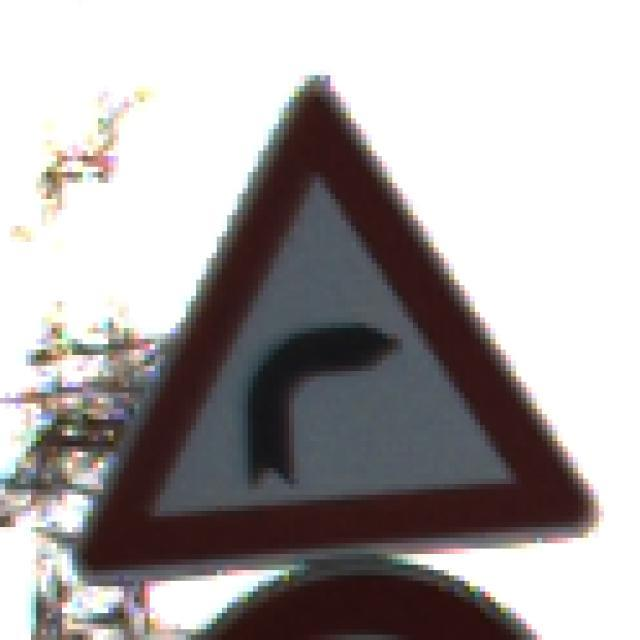right hand curve: (81, 86, 590, 574)
